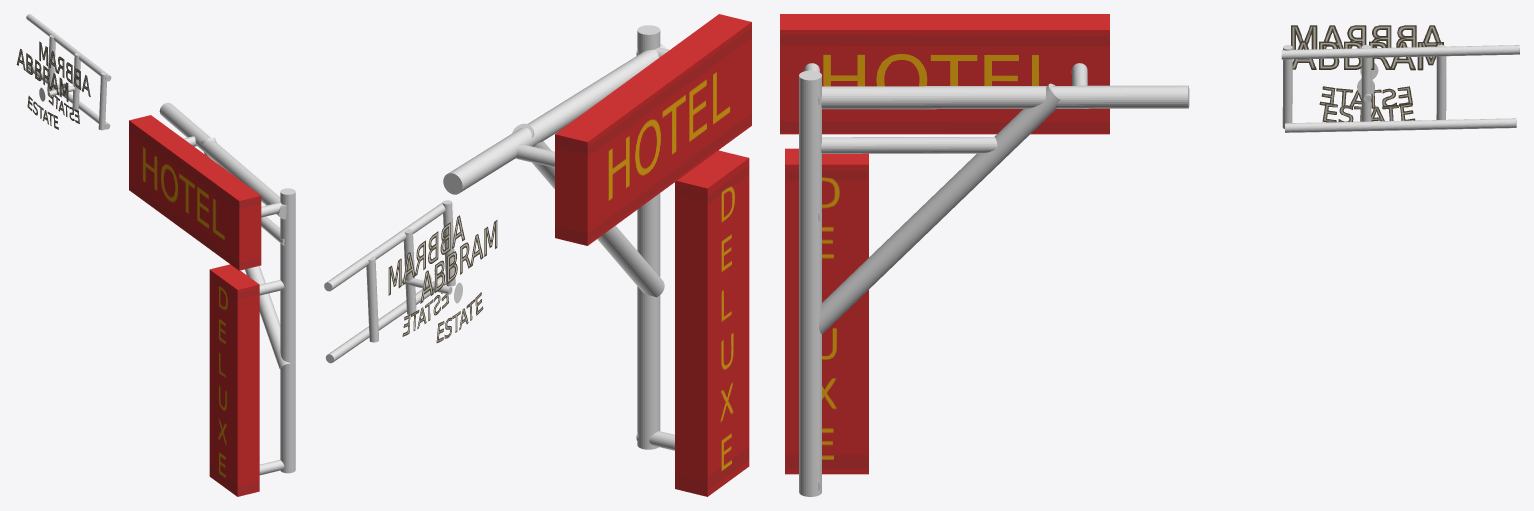
The model's file is billboards.fbx.
3 renders of one model, left to right at view 1: azimuth 30°, elevation 25°; view 2: azimuth 150°, elevation 25°; view 3: azimuth 270°, elevation 25°, orthographic. The views are drawn at different scales.
Visible parts, largest first — view 1: Cube.007, Cube.008, Cylinder.006, Cylinder.002, Cube.009; view 2: Cube.007, Cube.008, Cylinder.006, Cylinder.002, Cube.009; view 3: Cube.007, Cylinder.006, Cube.008, Cylinder.002, Cube.009.
Part boxes in pixels (<box>): Cube.007: <box>129,115,261,270</box>; Cube.008: <box>209,264,259,496</box>; Cylinder.006: <box>159,102,295,475</box>; Cylinder.002: <box>26,14,111,130</box>; Cube.009: <box>16,41,90,129</box>; Cube.007: <box>555,14,751,245</box>; Cube.008: <box>675,150,749,496</box>; Cylinder.006: <box>443,25,674,450</box>; Cylinder.002: <box>324,200,455,363</box>; Cube.009: <box>388,215,497,342</box>; Cube.007: <box>780,14,1109,134</box>; Cylinder.006: <box>799,63,1189,496</box>; Cube.008: <box>785,148,868,474</box>; Cylinder.002: <box>1281,45,1519,132</box>; Cube.009: <box>1291,25,1443,122</box>.
Bounding box in the file's own units: 74.03 × 297 × 449.
